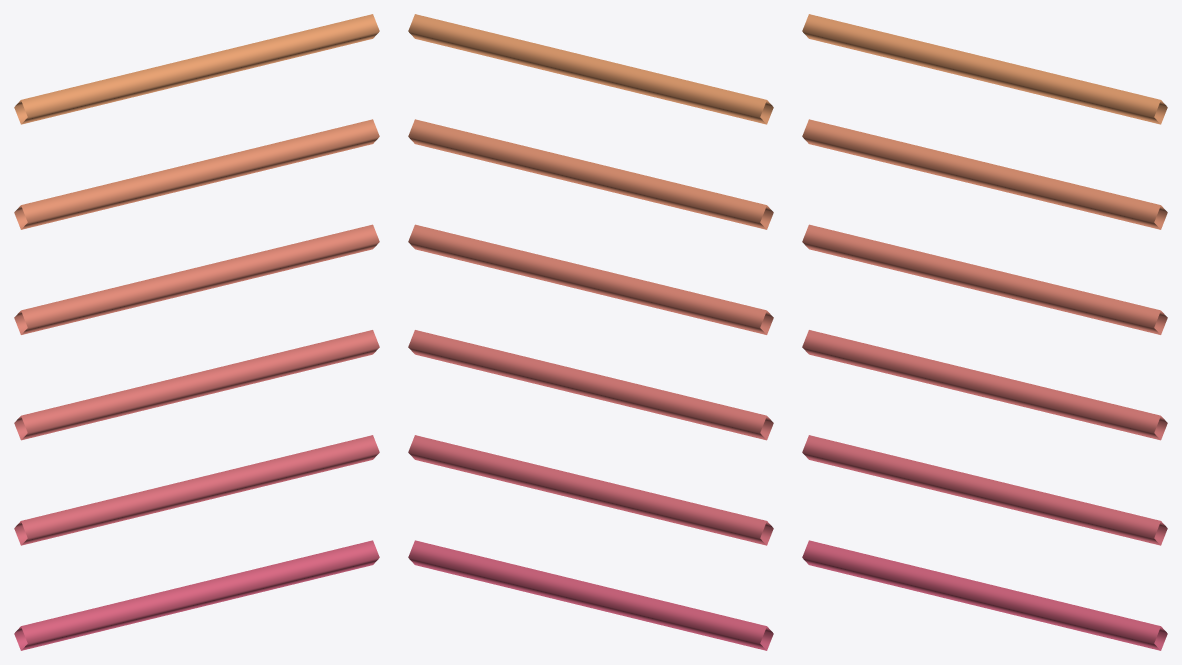
The model's file is lasers_lev4.glb.
3 renders of one model, left to right at view 1: azimuth 30°, elevation 25°; view 2: azimuth 150°, elevation 25°; view 3: azimuth 330°, elevation 25°, orthographic.
Visible parts, largest first — view 1: lasers_lev4; view 2: lasers_lev4; view 3: lasers_lev4.
Boxes of the visible parts, bbox=[...] form: lasers_lev4: bbox=[14, 14, 379, 650]; lasers_lev4: bbox=[408, 14, 773, 650]; lasers_lev4: bbox=[802, 14, 1167, 650].
Size of the model in its own units: 6.3 by 9.42 by 0.4243.
1 material, 1 textured.
